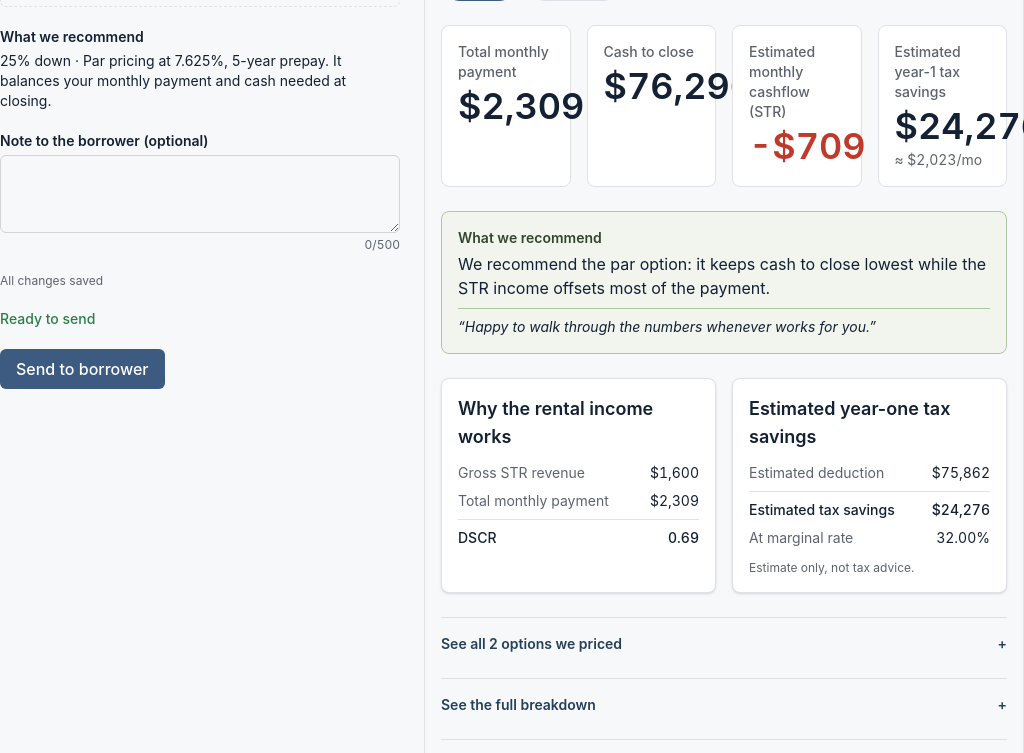
Test: SendTab › when ready, Send opens a confirm dialog with the recipient and attachments
(page scrolled)
Click the button "Send to borrower": (82, 369) [0,349,164,389]
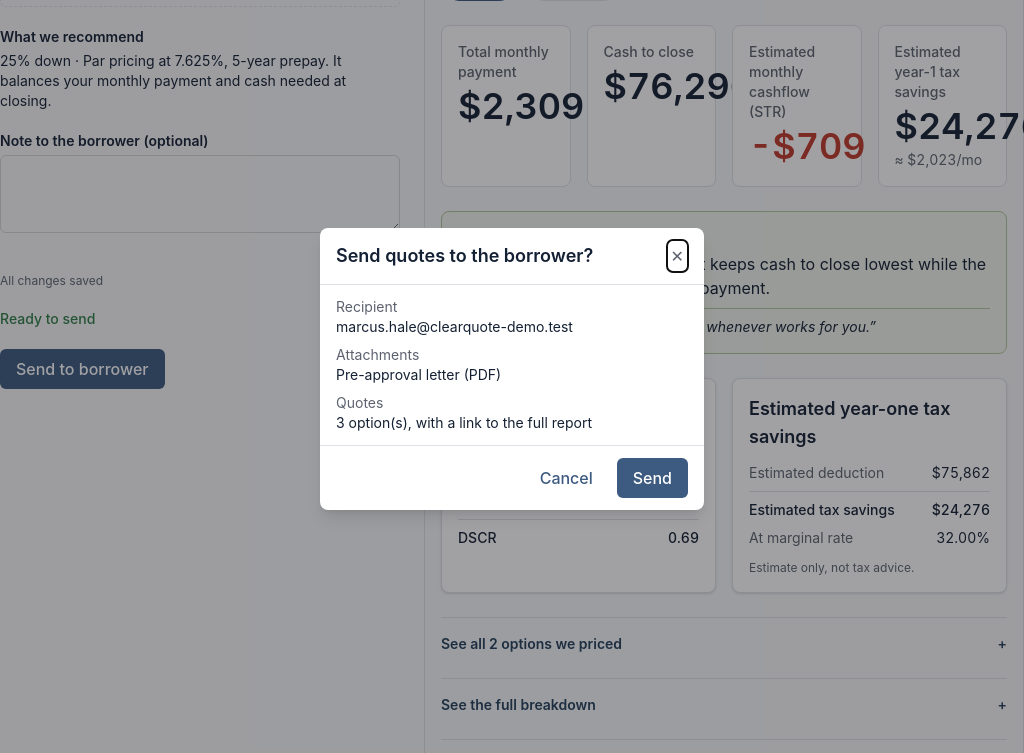
Check: the text with test id "send-recipient" reads "marcus.hale@clearquote-demo.test", box [336,318,573,335]
Check: the dialog shows "Pre-approval letter (PDF)", box [336,366,501,383]
Click the button "Cancel": (566, 478) [524,458,609,498]
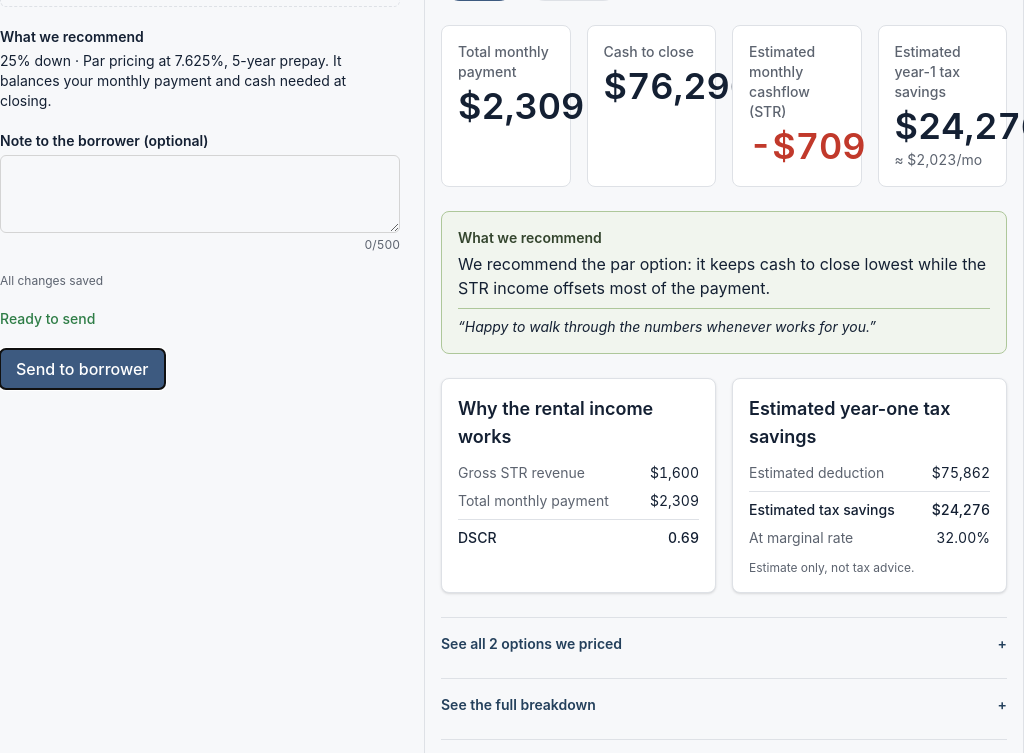
Check: the dialog is gone
